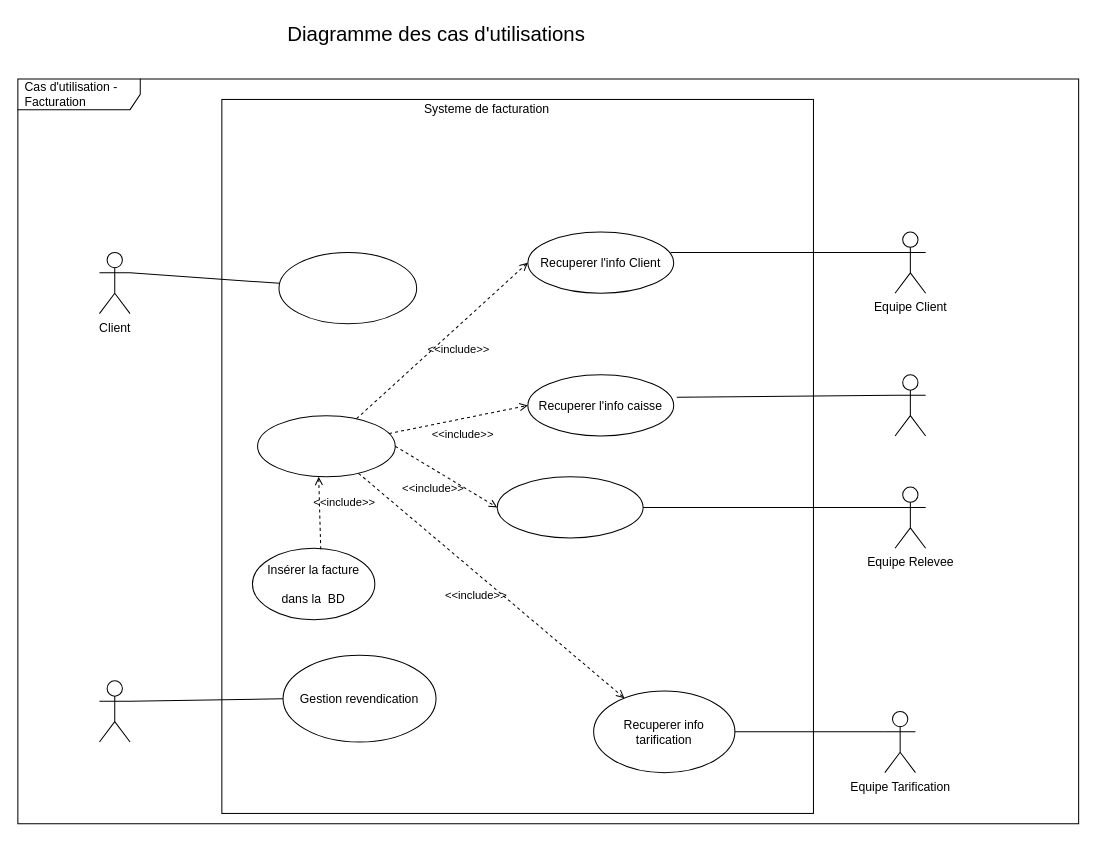
The diagram is 1097 pixels wide and 842 high, and some of its shapes have lost their labels. Each missing label, with the centre of its shape:
"Consulter Factore" belongs at (347,287).
"Equipe Encaissement" belongs at (910,405).
"Generer la facture" belongs at (326,446).
"Operateur" belongs at (114,711).
"Recuperer l'info Relevee" belongs at (569,507).
